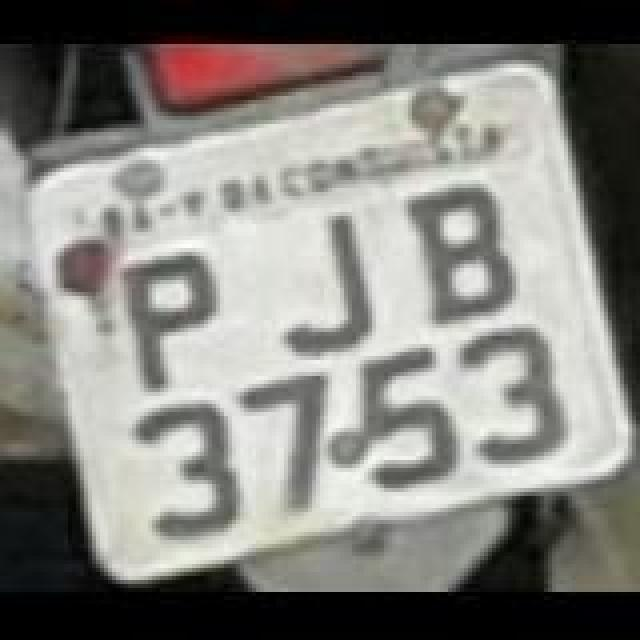3: (454, 312, 570, 472), (132, 392, 244, 552)
5: (348, 342, 468, 490)
7: (242, 370, 350, 526)
B: (408, 178, 520, 334)
J: (276, 204, 380, 364)
P: (120, 244, 224, 396)
